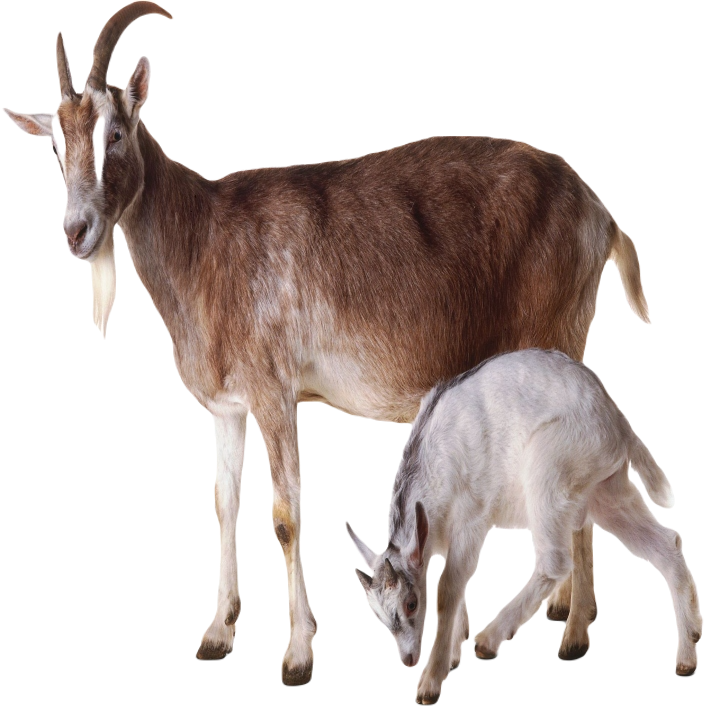Goat: (3, 0, 653, 684)
